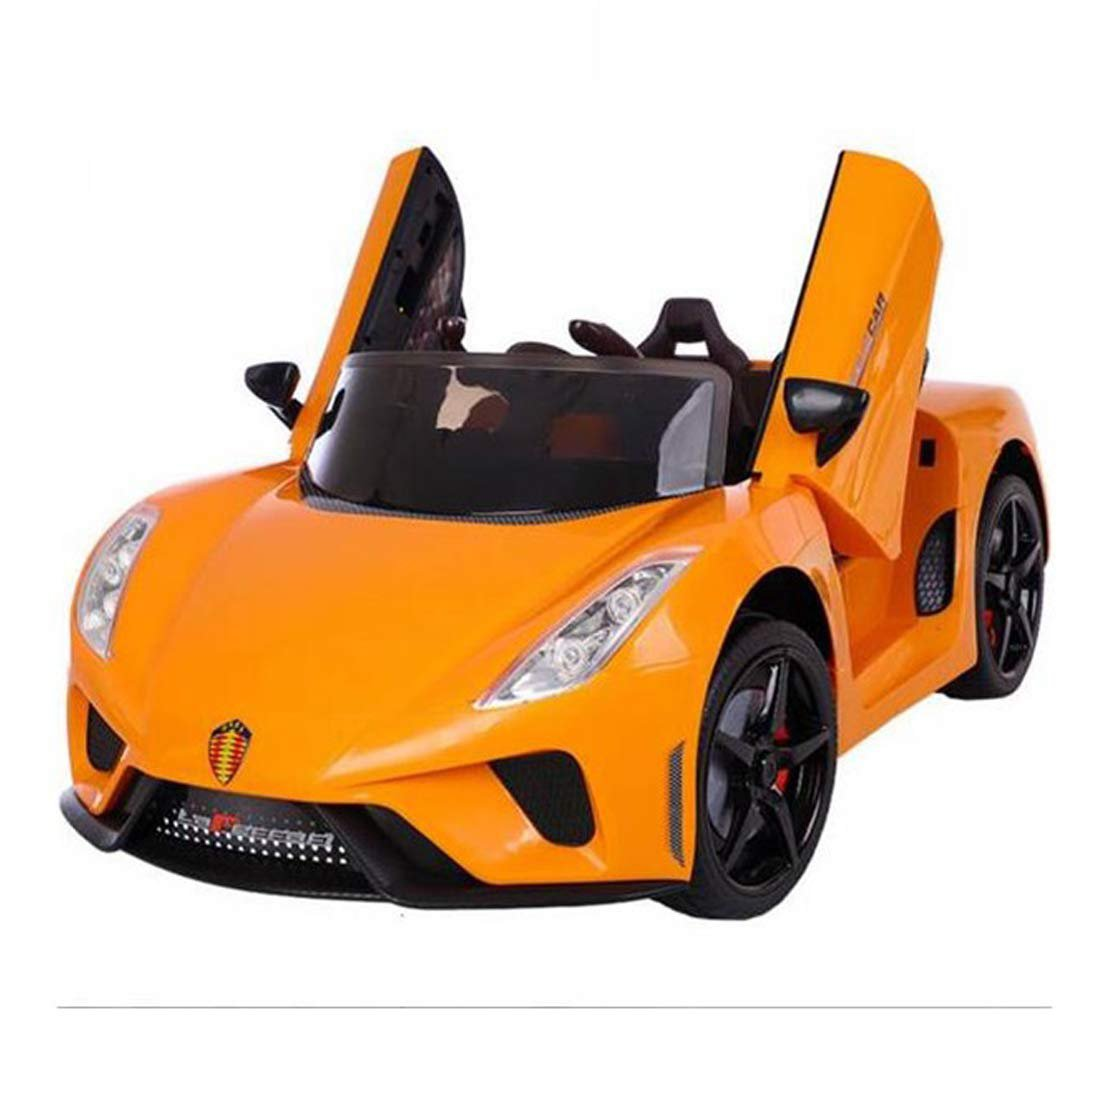car: (66, 134, 1052, 922)
